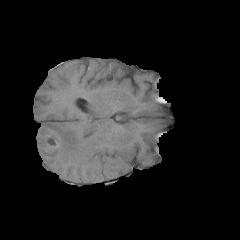glioma: (36, 122, 121, 181)
